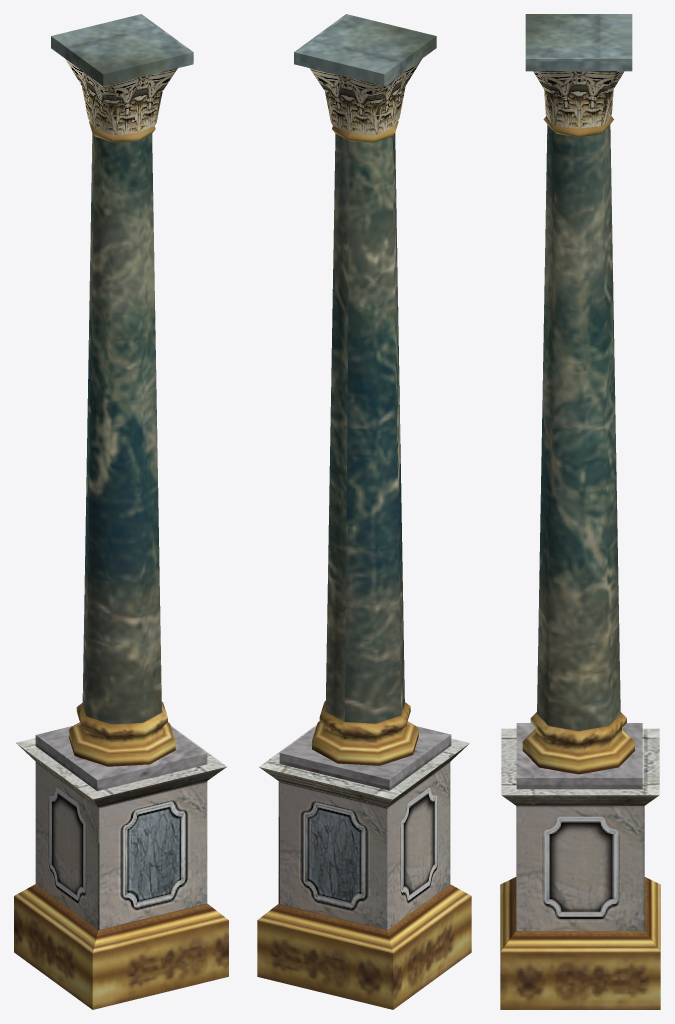
The model's file is column_roman_c.dae.
3 renders of one model, left to right at view 1: azimuth 30°, elevation 25°; view 2: azimuth 150°, elevation 25°; view 3: azimuth 270°, elevation 25°, orthographic. The views are drawn at different scales.
Parts seen in each view (by area): view 1: rostrum.001; view 2: rostrum.001; view 3: rostrum.001.
Part boxes in pixels (left/top/right/bottom): rostrum.001: left=14, top=14, right=228, bottom=1009; rostrum.001: left=257, top=14, right=471, bottom=1009; rostrum.001: left=500, top=14, right=660, bottom=1009.
Size of the model in its own units: 2.41 by 2.41 by 15.59.
